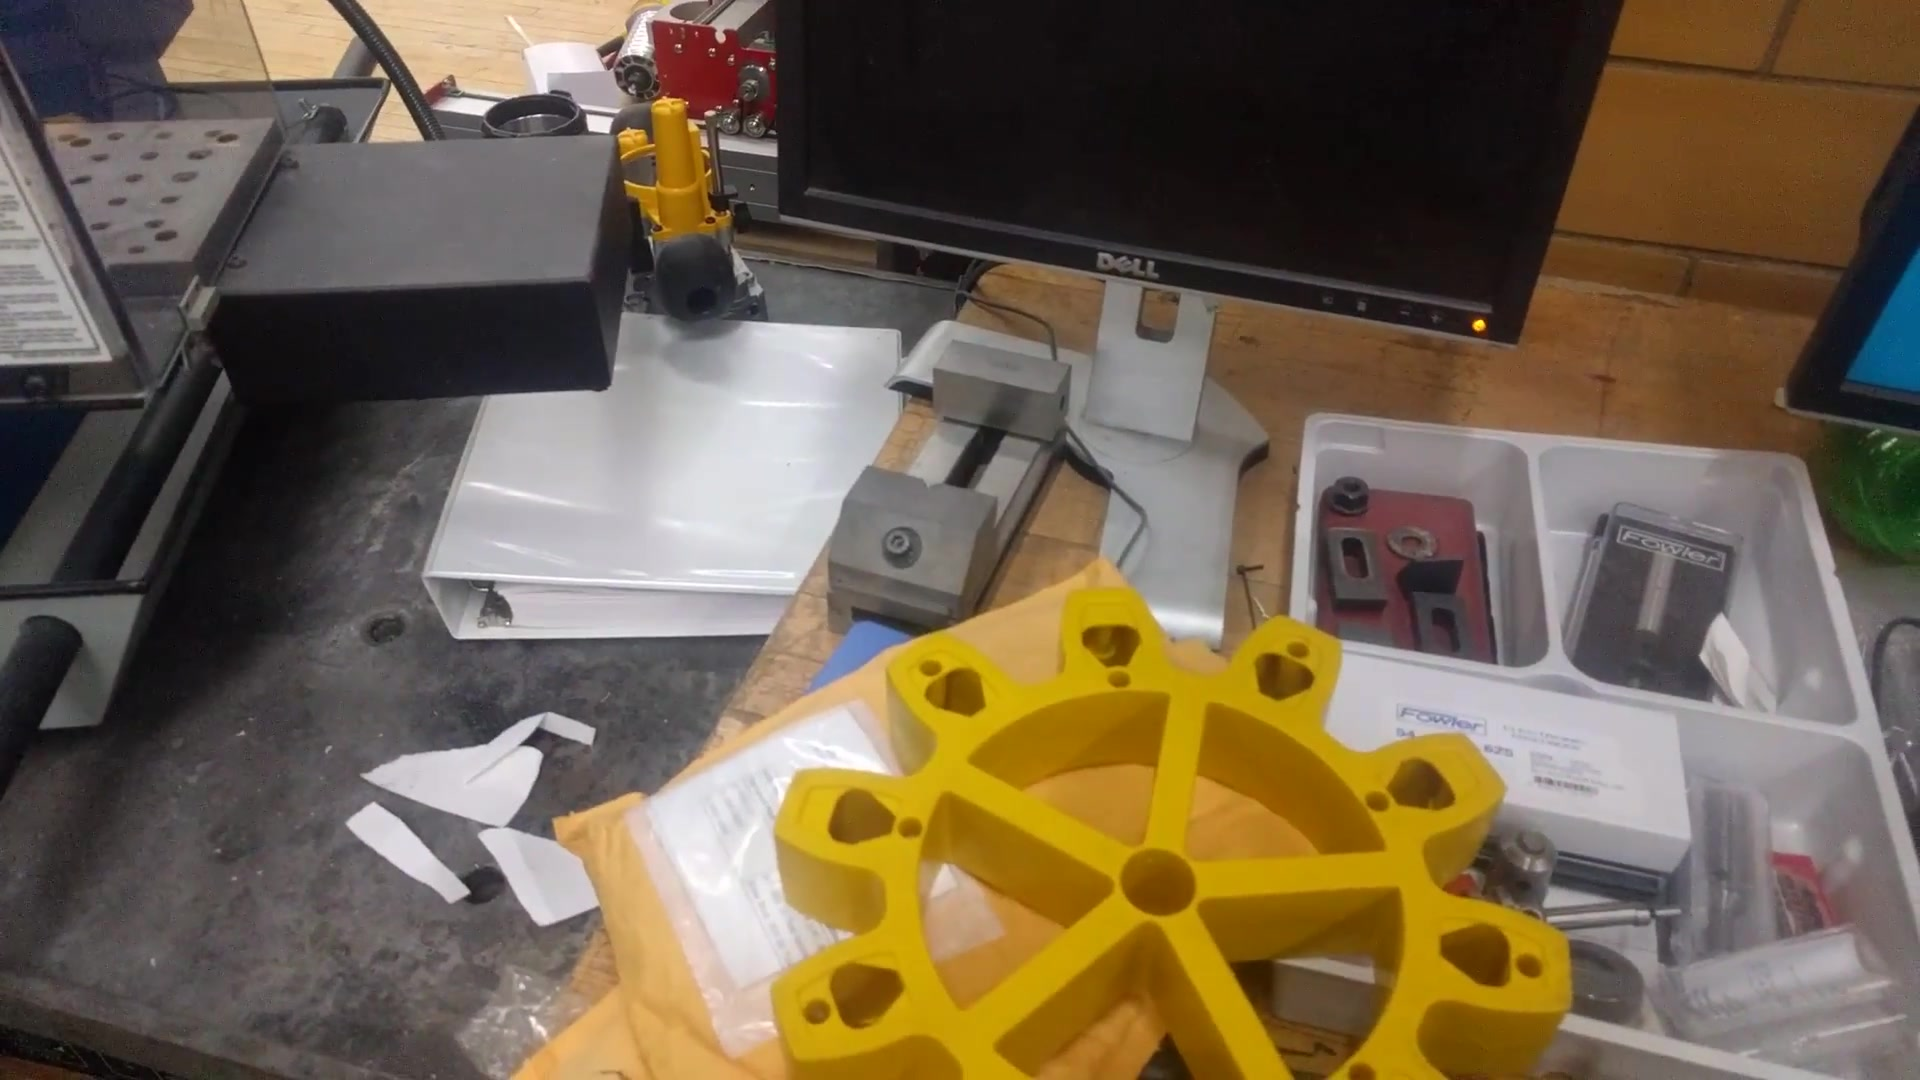gear: (766, 579, 1576, 1080)
